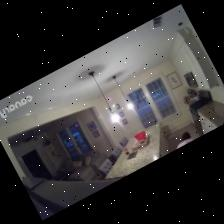person: (176, 132, 192, 148)
